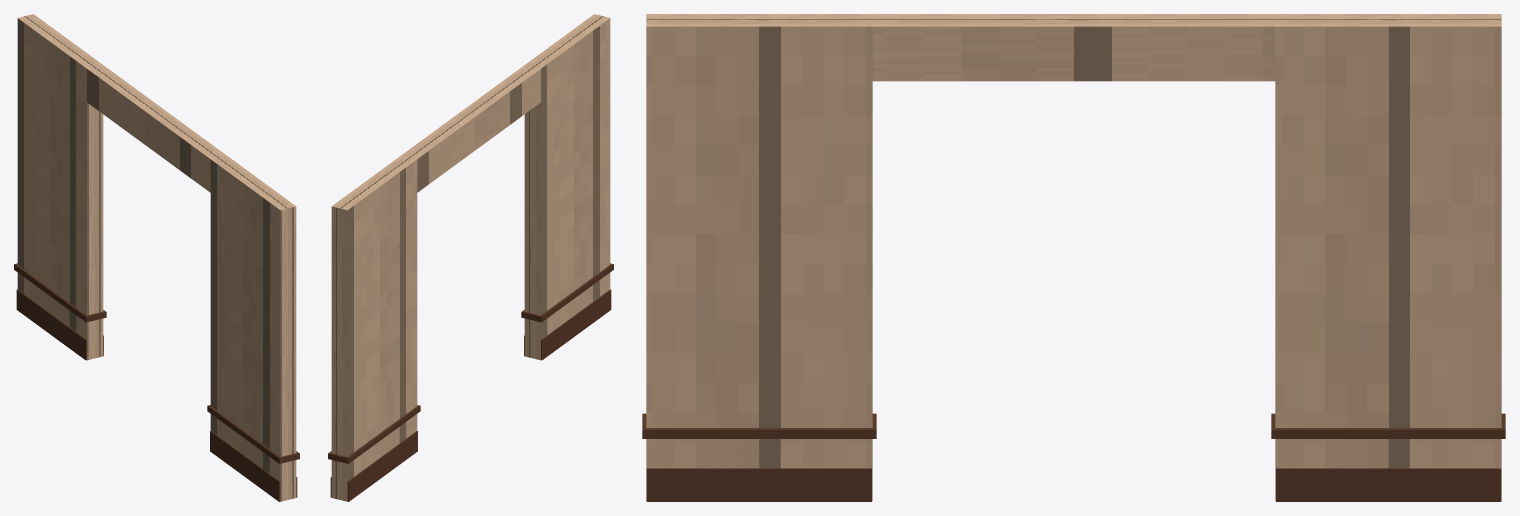
The model's file is living_dining.glb.
3 renders of one model, left to right at view 1: azimuth 30°, elevation 25°; view 2: azimuth 150°, elevation 25°; view 3: azimuth 270°, elevation 25°, orthographic. The views are drawn at different scales.
Visible parts, largest first — view 1: Box3, Box1, Box5, Box4, Box2, Box6, Box8, Box9, Box7; view 2: Box1, Box3, Box5, Box2, Box4, Box6, Box8, Box7, Box9; view 3: Box3, Box1, Box5, Box2, Box4, Box8, Box6, Box7, Box9.
Boxes of the visible parts, x1=… form: Box3: x1=210, y1=155, x2=296, y2=501; Box1: x1=17, y1=14, x2=103, y2=360; Box5: x1=87, y1=65, x2=226, y2=192; Box4: x1=210, y1=431, x2=297, y2=501; Box2: x1=16, y1=289, x2=103, y2=360; Box6: x1=18, y1=282, x2=103, y2=359; Box8: x1=210, y1=414, x2=296, y2=501; Box9: x1=207, y1=405, x2=299, y2=463; Box7: x1=14, y1=263, x2=106, y2=322; Box1: x1=331, y1=155, x2=417, y2=501; Box3: x1=524, y1=14, x2=610, y2=360; Box5: x1=401, y1=65, x2=540, y2=192; Box2: x1=330, y1=431, x2=417, y2=501; Box4: x1=524, y1=289, x2=611, y2=360; Box6: x1=331, y1=414, x2=417, y2=501; Box8: x1=524, y1=284, x2=606, y2=359; Box7: x1=328, y1=405, x2=420, y2=463; Box9: x1=521, y1=263, x2=613, y2=322; Box3: x1=646, y1=14, x2=872, y2=500; Box1: x1=1275, y1=14, x2=1501, y2=500; Box5: x1=872, y1=14, x2=1275, y2=81; Box2: x1=1276, y1=468, x2=1501, y2=501; Box4: x1=646, y1=468, x2=871, y2=501; Box8: x1=646, y1=439, x2=872, y2=498; Box6: x1=1275, y1=439, x2=1501, y2=500; Box7: x1=1271, y1=413, x2=1505, y2=438; Box9: x1=642, y1=413, x2=876, y2=438.
Bounding box in the file's own units: 0.19 × 2.6 × 4.29.
Materials: 2 (1 with a texture image).
